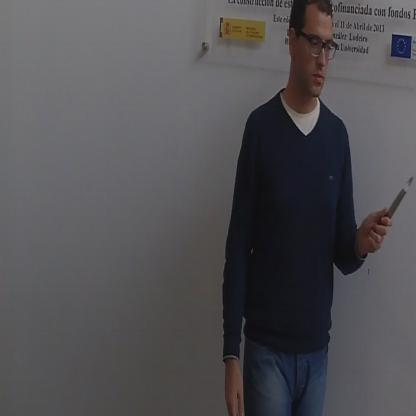knife: (372, 168, 416, 240)
